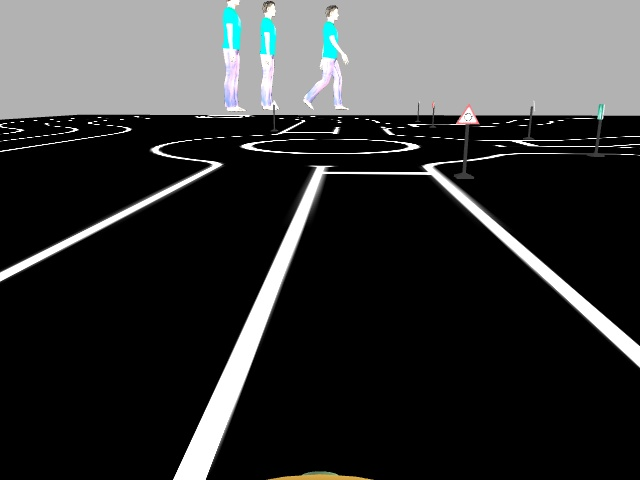Roundabout: (455, 101, 480, 127)
